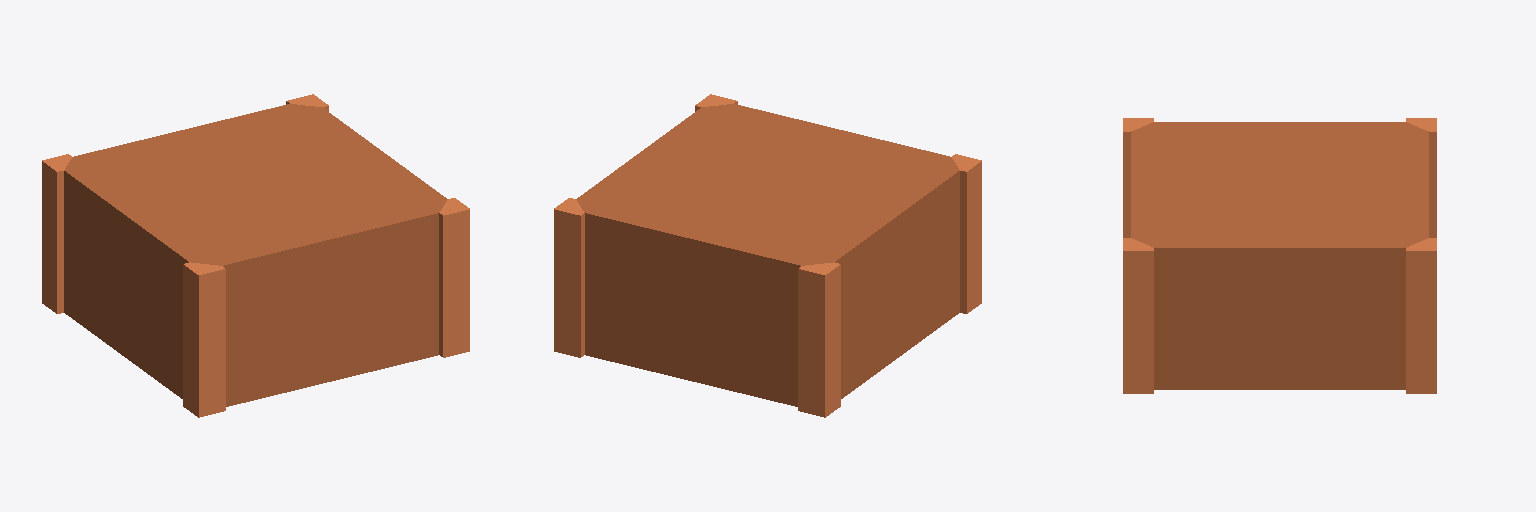
File: wallWoodBlockHalf.obj
3 views of the same model, side by side, from view 1: azimuth 30°, elevation 25°; view 2: azimuth 150°, elevation 25°; view 3: azimuth 270°, elevation 25° (orthographic).
Parts seen in each view (by area): view 1: wallWoodBlockHalf; view 2: wallWoodBlockHalf; view 3: wallWoodBlockHalf.
Boxes of the visible parts, x1,y1,x2,y2 form: wallWoodBlockHalf: [42, 94, 469, 417]; wallWoodBlockHalf: [554, 94, 981, 417]; wallWoodBlockHalf: [1123, 118, 1436, 393].
Size of the model in its own units: 1 by 0.5 by 1.